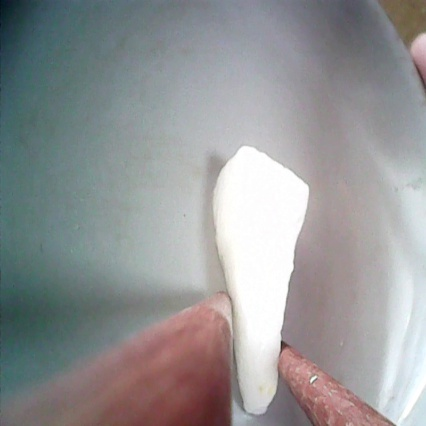white_chinese-yam: (204, 141, 316, 414)
